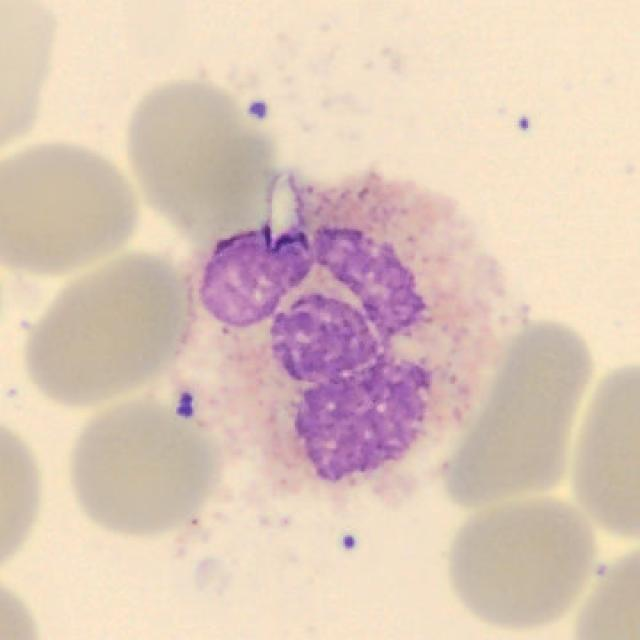Neutrofilo segmentado: (171, 172, 528, 507)
